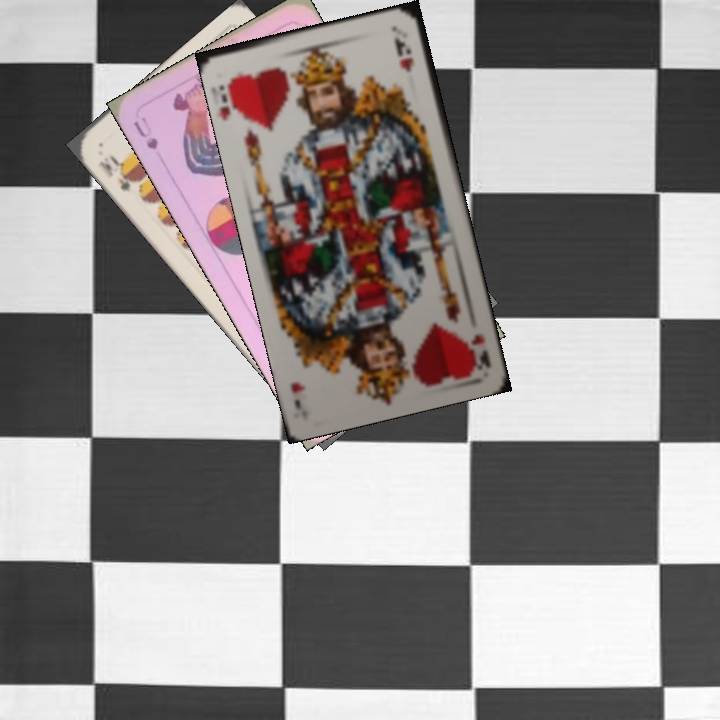E10: (94, 151, 143, 195)
HK: (215, 73, 246, 124), (463, 330, 494, 372)
SU: (129, 112, 161, 153)
